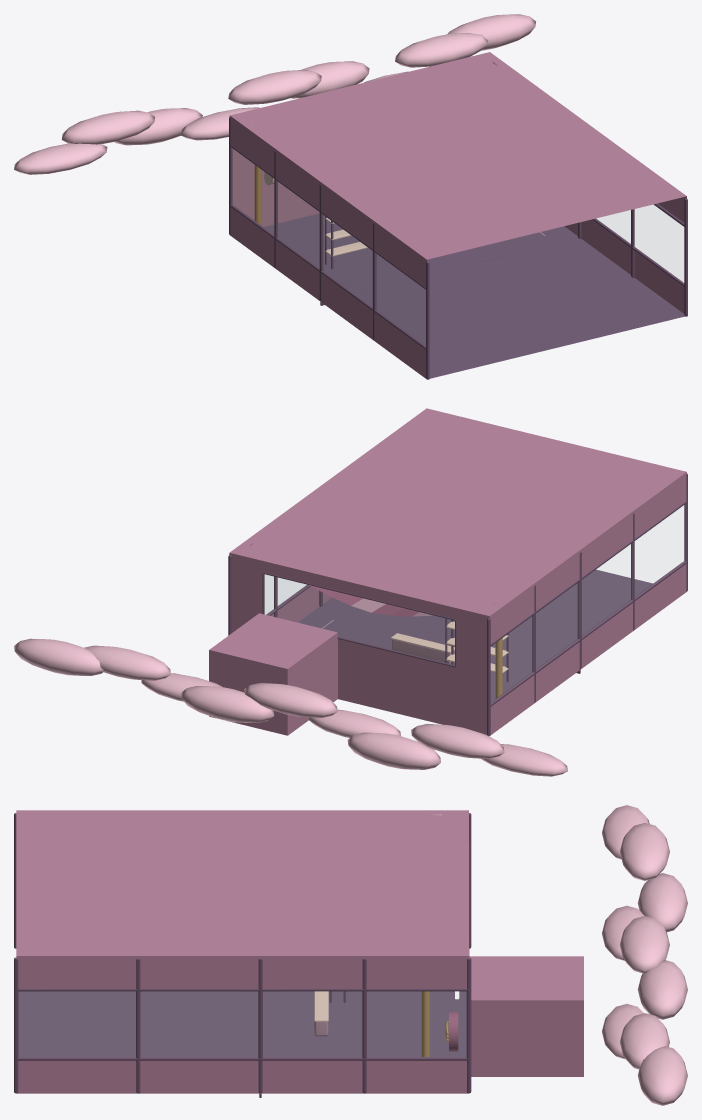
File: depot.glb
The picture shows the model from 3 angles, top to bottom: view 1: azimuth 30°, elevation 25°; view 2: azimuth 150°, elevation 25°; view 3: azimuth 270°, elevation 25°; orthographic projection. The views are drawn at different scales.
Visible parts, largest first — view 1: Roof panels - Wall, Floor extension - Floor, Outside the glazing - Glass rim, Port wall - Wall, Floor - Floor, Port wall - Rib, Starboard wall - Wall, Rear bulkhead - Wall, Starboard wall - Rib; view 2: Roof panels - Wall, Outside the glazing - Glass rim, Rear bulkhead - Wall, Port wall - Wall, Floor extension - Floor, Stockroom - Wall, Store lid - Wall, Floor - Floor, Port wall - Rib, Rear bulkhead - Rib, Starboard wall - Wall, Starboard wall - Rib (+2 smaller); view 3: Roof panels - Wall, Starboard wall - Wall, Outside the glazing - Glass rim, Floor extension - Floor, Floor - Floor, Stockroom - Wall, Starboard wall - Rib, Store lid - Wall, Port wall - Rib, Signature architecture - Brass, Counter - Pale.
Part boxes in pixels (left/top/right/bottom): Roof panels - Wall: left=230, top=52, right=686, bottom=259; Floor extension - Floor: left=355, top=238, right=684, bottom=378; Outside the glazing - Glass rim: left=14, top=14, right=535, bottom=174; Port wall - Wall: left=229, top=115, right=426, bottom=378; Floor - Floor: left=264, top=213, right=578, bottom=293; Port wall - Rib: left=229, top=117, right=429, bottom=379; Starboard wall - Wall: left=564, top=196, right=686, bottom=313; Rear bulkhead - Wall: left=232, top=149, right=319, bottom=226; Starboard wall - Rib: left=577, top=198, right=687, bottom=316; Roof panels - Wall: left=229, top=408, right=686, bottom=616; Outside the glazing - Glass rim: left=14, top=638, right=567, bottom=776; Rear bulkhead - Wall: left=229, top=553, right=489, bottom=734; Port wall - Wall: left=489, top=472, right=686, bottom=735; Floor extension - Floor: left=322, top=569, right=652, bottom=661; Stockroom - Wall: left=209, top=632, right=337, bottom=735; Store lid - Wall: left=209, top=613, right=337, bottom=668; Floor - Floor: left=298, top=606, right=546, bottom=702; Port wall - Rib: left=487, top=473, right=687, bottom=736; Rear bulkhead - Rib: left=262, top=572, right=456, bottom=667; Starboard wall - Wall: left=270, top=586, right=331, bottom=622; Starboard wall - Rib: left=228, top=555, right=322, bottom=635; Roof panels - Wall: left=16, top=810, right=468, bottom=955; Starboard wall - Wall: left=16, top=956, right=468, bottom=1093; Outside the glazing - Glass rim: left=602, top=805, right=687, bottom=1105; Floor extension - Floor: left=18, top=991, right=258, bottom=1056; Floor - Floor: left=263, top=991, right=466, bottom=1056; Stockroom - Wall: left=471, top=1000, right=583, bottom=1076; Starboard wall - Rib: left=14, top=957, right=471, bottom=1093; Store lid - Wall: left=469, top=956, right=583, bottom=1000; Port wall - Rib: left=14, top=813, right=471, bottom=948; Signature architecture - Brass: left=421, top=991, right=448, bottom=1056; Counter - Pale: left=314, top=991, right=328, bottom=1021.
Size of the model in its own units: 39.7 by 8.8 by 37.53.
